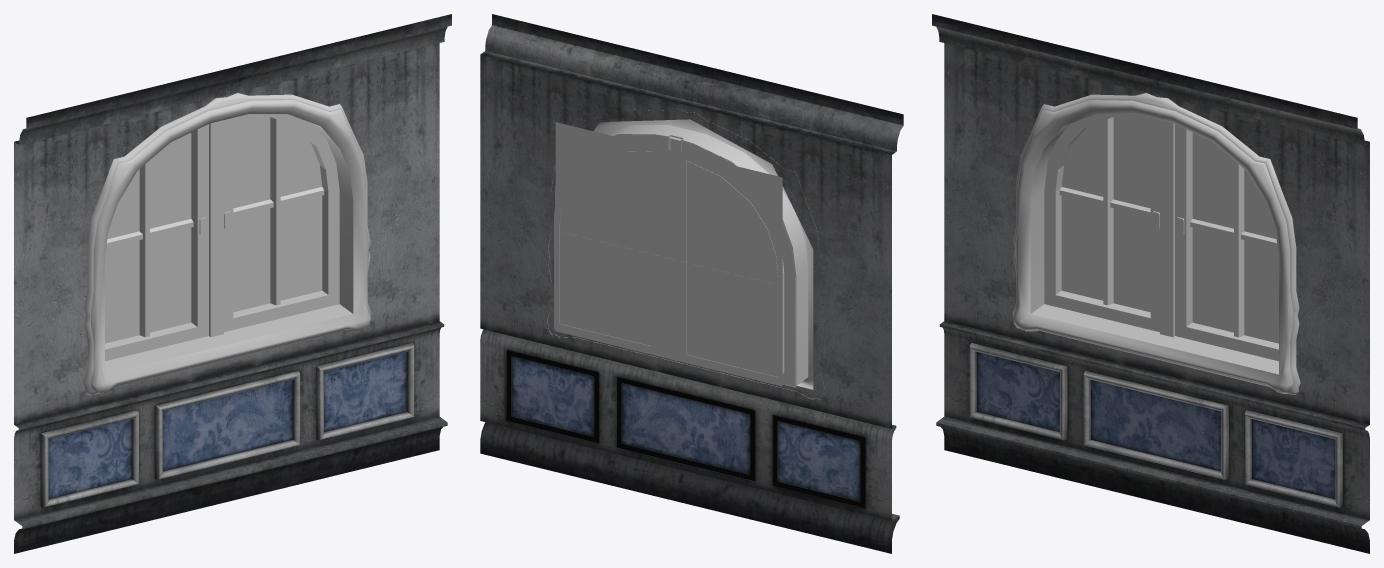
File: window03_blue_blue.dae
3 renders of one model, left to right at view 1: azimuth 30°, elevation 25°; view 2: azimuth 150°, elevation 25°; view 3: azimuth 330°, elevation 25°, orthographic. The views are drawn at different scales.
Visible parts, largest first — view 1: window03, window03_frame, window03_glass; view 2: window03, window03_glass, window03_frame; view 3: window03, window03_frame, window03_glass.
Boxes of the visible parts, box(x1,y1,x2,y2) form: window03: box(14, 14, 451, 553); window03_frame: box(83, 93, 371, 394); window03_glass: box(105, 116, 322, 343); window03: box(480, 14, 903, 553); window03_glass: box(555, 122, 782, 386); window03_frame: box(547, 109, 824, 399); window03: box(932, 14, 1369, 553); window03_frame: box(1012, 93, 1300, 394); window03_glass: box(1061, 116, 1278, 343).
Size of the model in its own units: 4 by 4 by 0.488.
